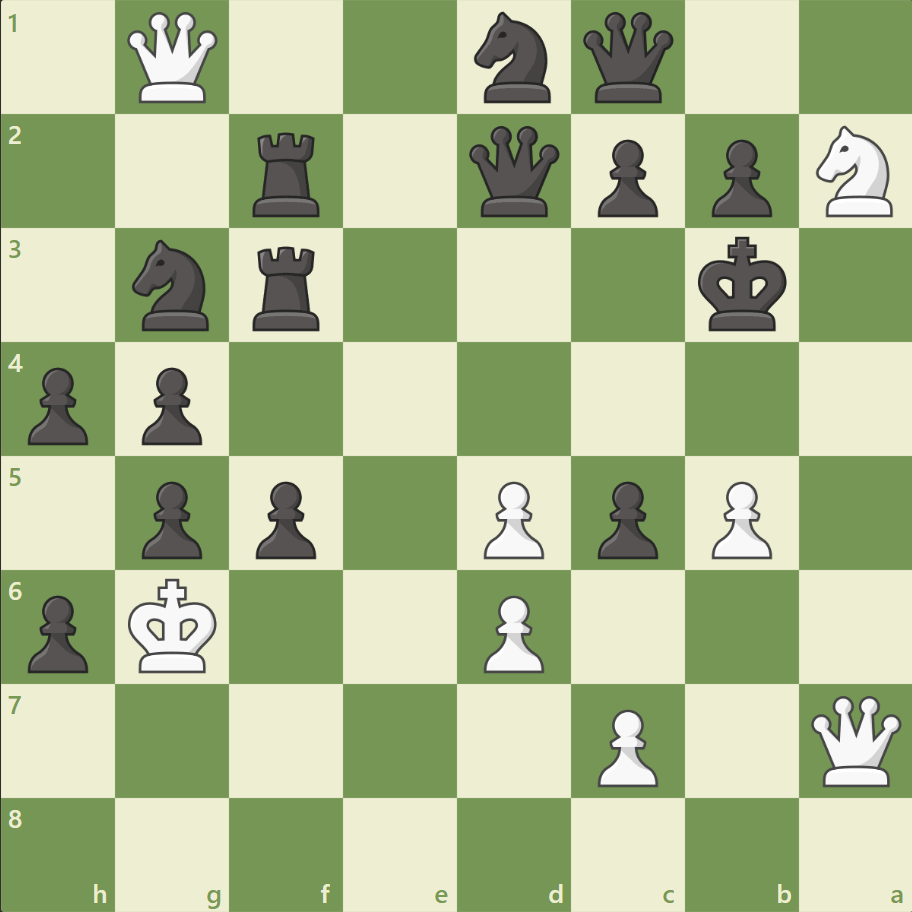K: (124, 571, 224, 679)
N: (806, 121, 903, 223)
P: (474, 586, 549, 677), (701, 473, 776, 564), (474, 473, 549, 564), (588, 700, 662, 791)
Q: (805, 690, 904, 789), (124, 9, 223, 108)
k: (692, 231, 792, 339)
n: (124, 234, 222, 337), (465, 7, 562, 110)
p: (20, 586, 95, 677), (247, 473, 322, 564), (133, 473, 208, 564), (133, 359, 208, 450), (20, 359, 95, 450), (701, 132, 776, 223), (588, 473, 662, 564), (588, 132, 662, 223)
q: (464, 122, 563, 222), (578, 9, 677, 108)
r: (246, 239, 329, 336), (246, 125, 329, 222)
